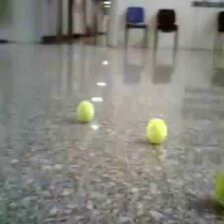tennis: (147, 119, 166, 142), (76, 100, 95, 120)
